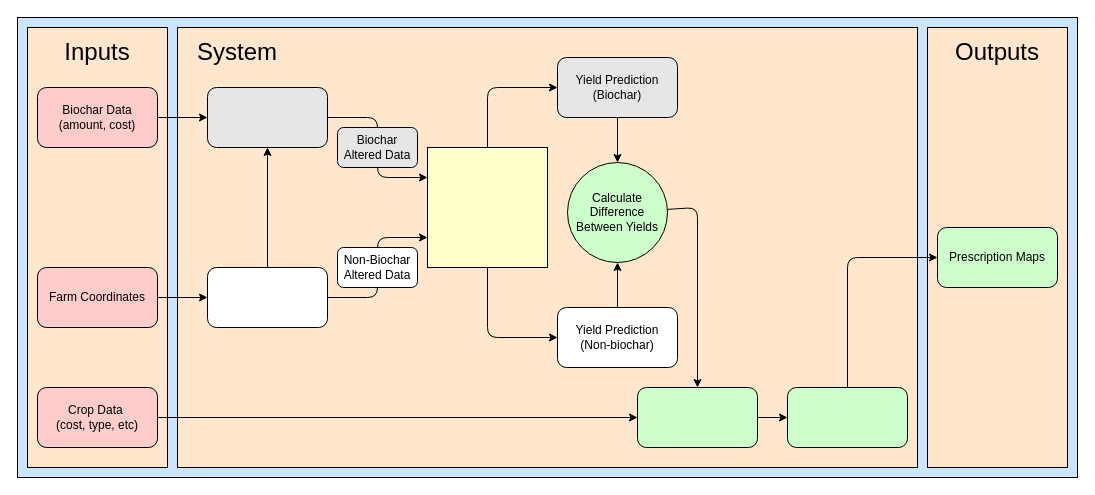
The diagram is 1095 pixels wide and 495 high, and some of its shapes have lost their labels. The shapes that lost their labels are listed below. From the top down, each one's centre as x and y in pixels, then its label:
At (x=267, y=117): "Modify Land/Soil Data".
At (x=487, y=207): "Yield Predictive Model/Equation".
At (x=267, y=297): "Retrieve Land/Soil Data".
At (x=697, y=417): "Calculate ROI (factoring in cost)".
At (x=847, y=417): "Generate Prescription Map".
